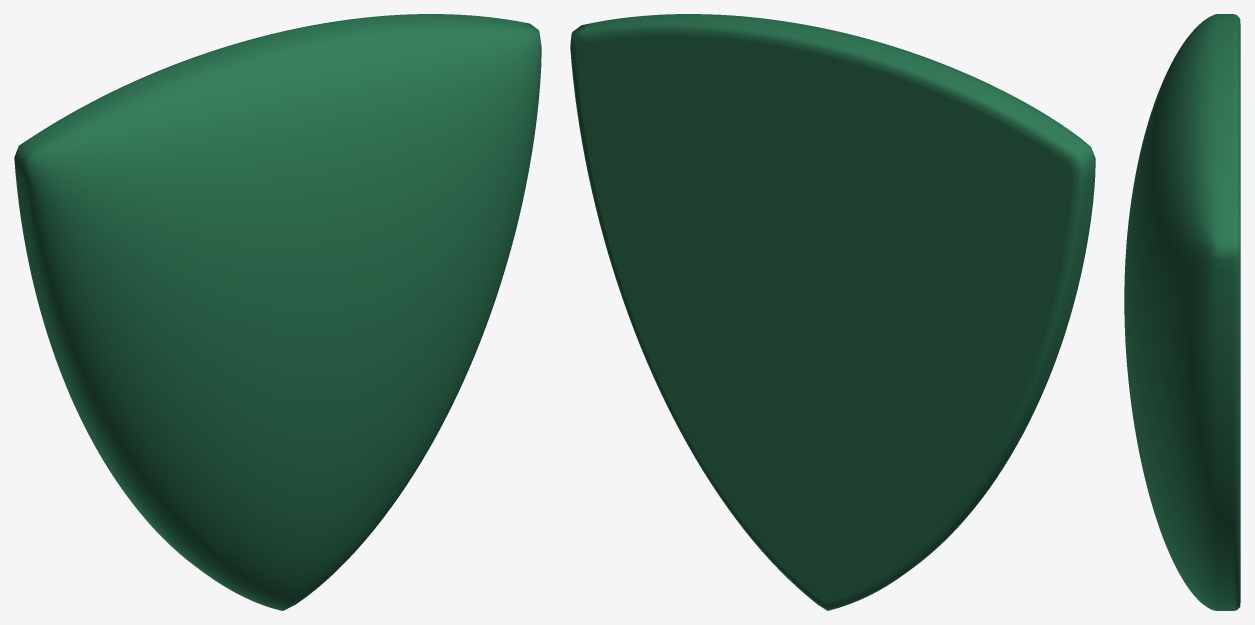
Rendered from trillion.glb.
The picture shows the model from 3 angles, left to right: view 1: azimuth 30°, elevation 25°; view 2: azimuth 150°, elevation 25°; view 3: azimuth 270°, elevation 25°; orthographic projection. The views are drawn at different scales.
Parts seen in each view (by area): view 1: Trillion Cabochon 20x19x4mm; view 2: Trillion Cabochon 20x19x4mm; view 3: Trillion Cabochon 20x19x4mm.
Part boxes in pixels (left/top/right/bottom): Trillion Cabochon 20x19x4mm: left=14, top=14, right=541, bottom=610; Trillion Cabochon 20x19x4mm: left=570, top=14, right=1095, bottom=610; Trillion Cabochon 20x19x4mm: left=1124, top=14, right=1240, bottom=610.
Size of the model in its own units: 0.019 by 0.02 by 0.00398.
